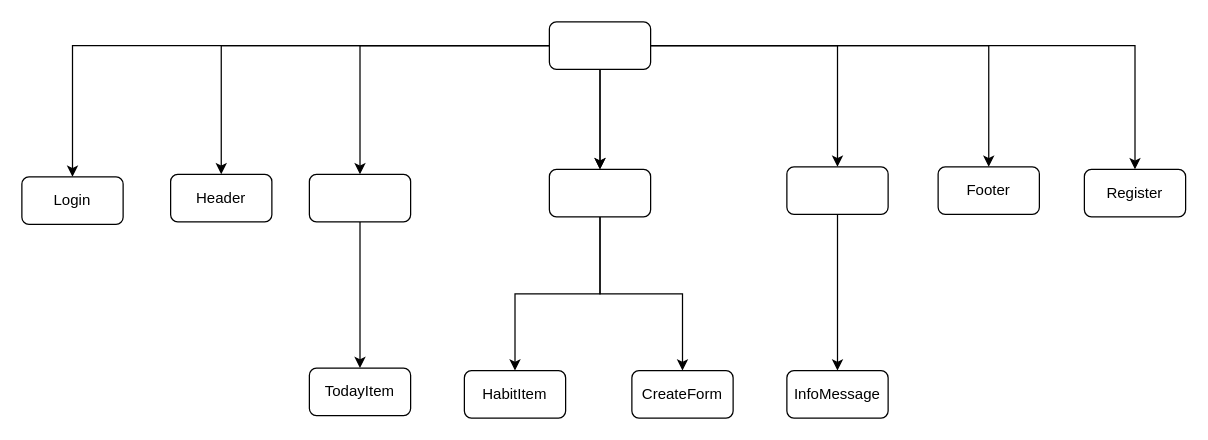
The diagram is 1208 pixels wide and 440 high, and some of its shapes have lost their labels. Each missing label, with the centre of its shape:
"App" goes at point (599, 45).
"Habits" goes at point (599, 192).
"History" goes at point (837, 190).
"Today" goes at point (359, 197).
